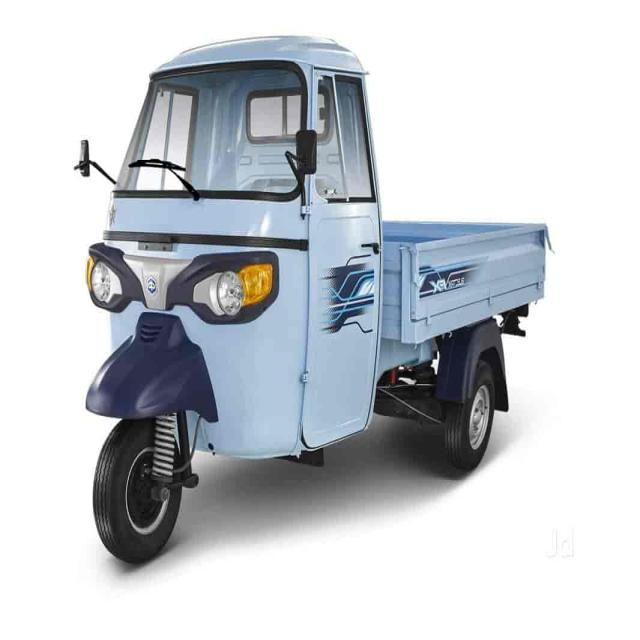autorickshaw: (86, 37, 549, 560)
